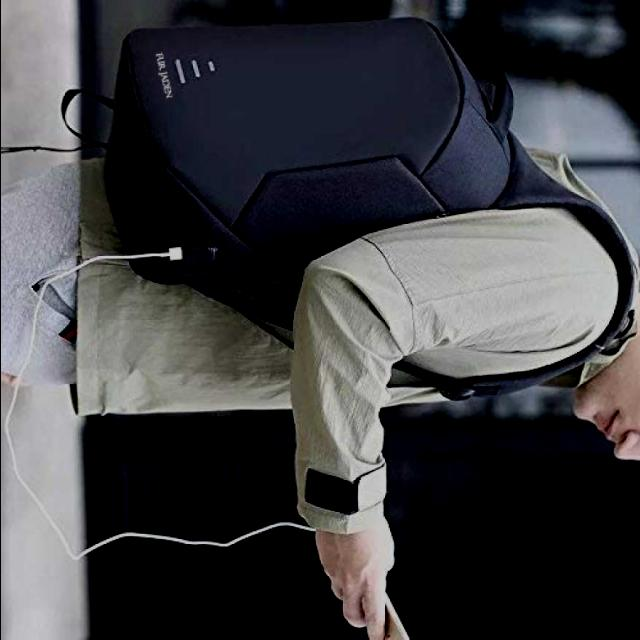backpack: (104, 17, 640, 401)
